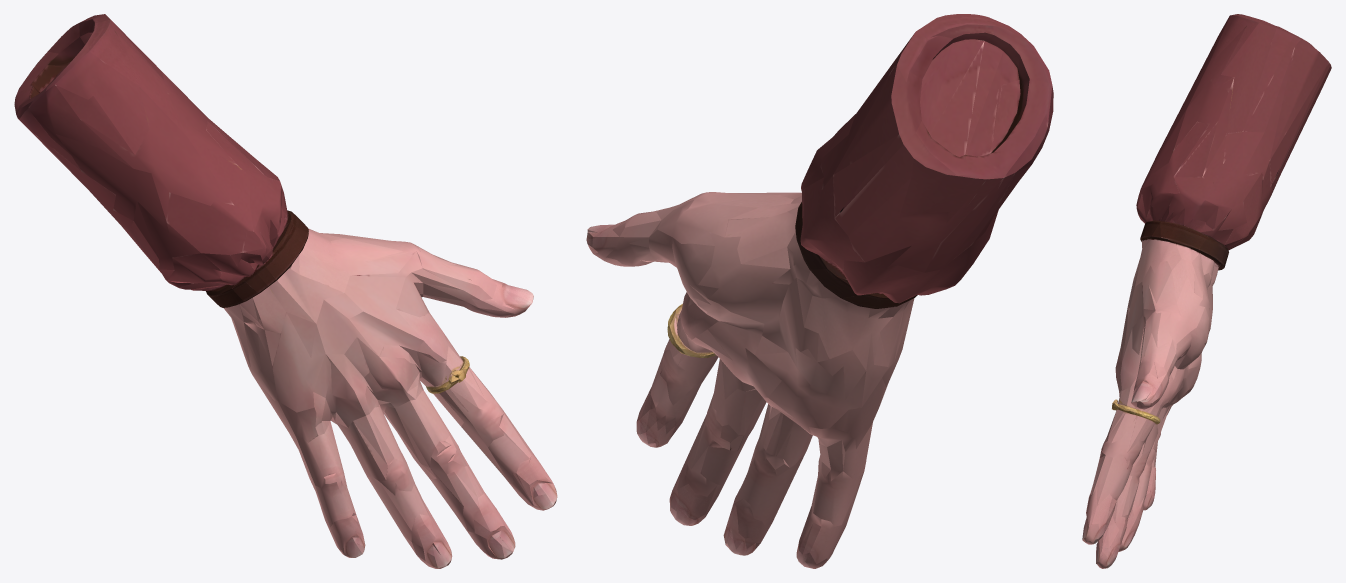
Rendered from channeler-meshy-512.glb.
The picture shows the model from 3 angles, left to right: view 1: azimuth 30°, elevation 25°; view 2: azimuth 150°, elevation 25°; view 3: azimuth 270°, elevation 25°; orthographic projection. The views are drawn at different scales.
Parts seen in each view (by area): view 1: Mesh_0; view 2: Mesh_0; view 3: Mesh_0.
Part boxes in pixels (x1,y1,x2,y2): Mesh_0: (14,14,557,568); Mesh_0: (586,14,1053,568); Mesh_0: (1082,14,1331,568).
Bounding box in the file's own units: 1.58 × 1.9 × 0.9904.
1 material, 1 textured.
